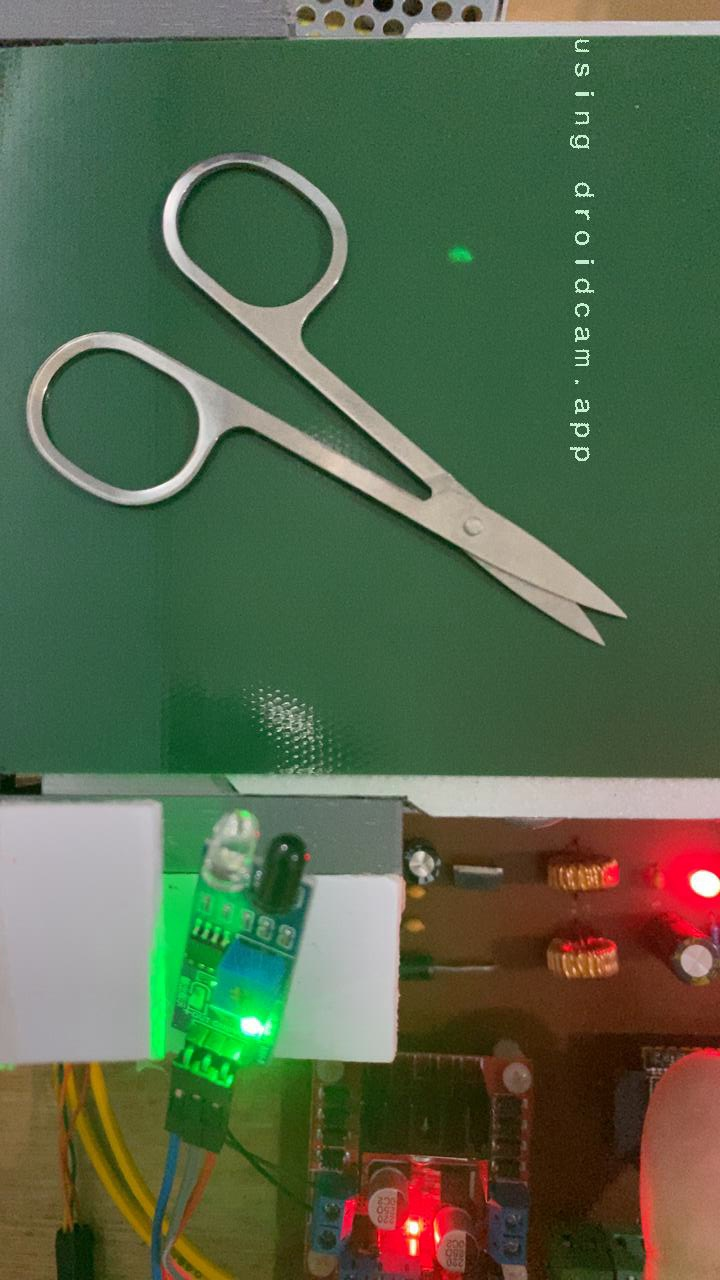scissor: (19, 146, 633, 652)
